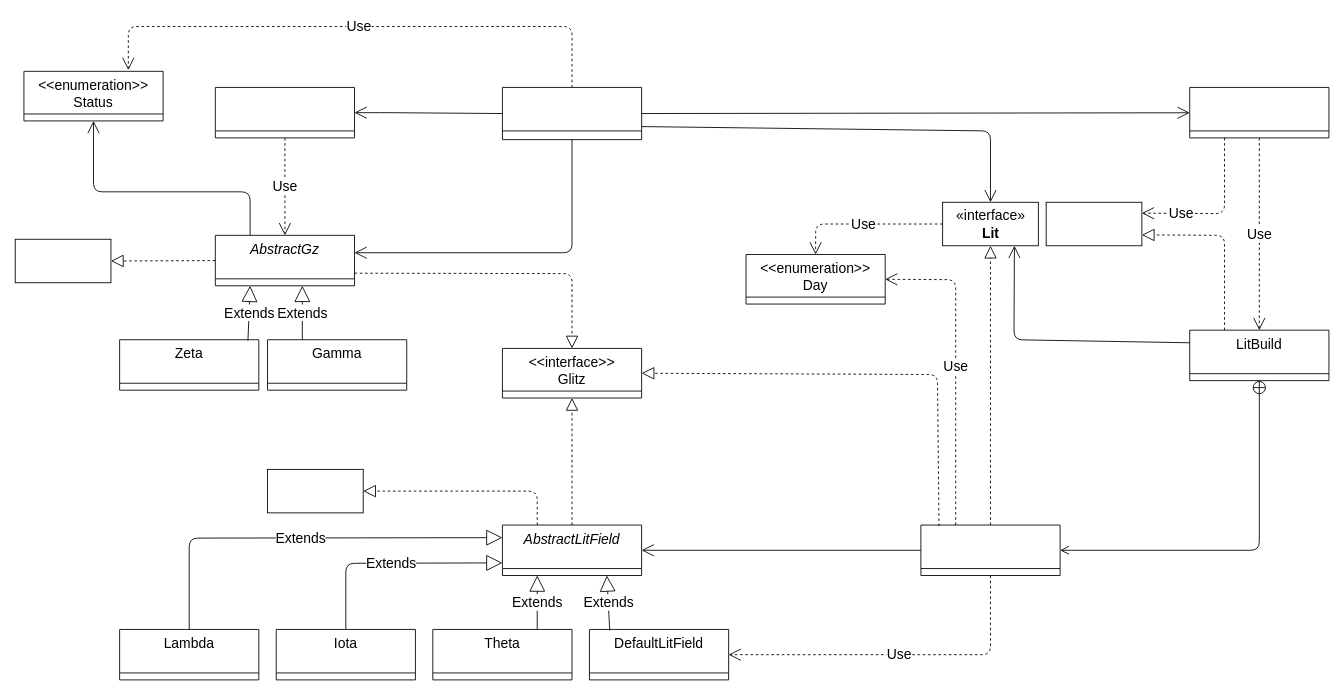
Image size: 1344x695. Some labels were removed from this diagram. The centre of each missing label's shape, as x and y in pixels:
"Alpha" belongs at (x=572, y=113).
"GzFactory" belongs at (x=284, y=112).
"LitBuilderFactory" belongs at (x=1259, y=112).
"LitImpl" belongs at (x=990, y=550).
"«interface» Gz" belongs at (x=62, y=260).
"«interface» LitBuilder" belongs at (x=1093, y=223).
"«interface» LitField" belongs at (x=315, y=490).
